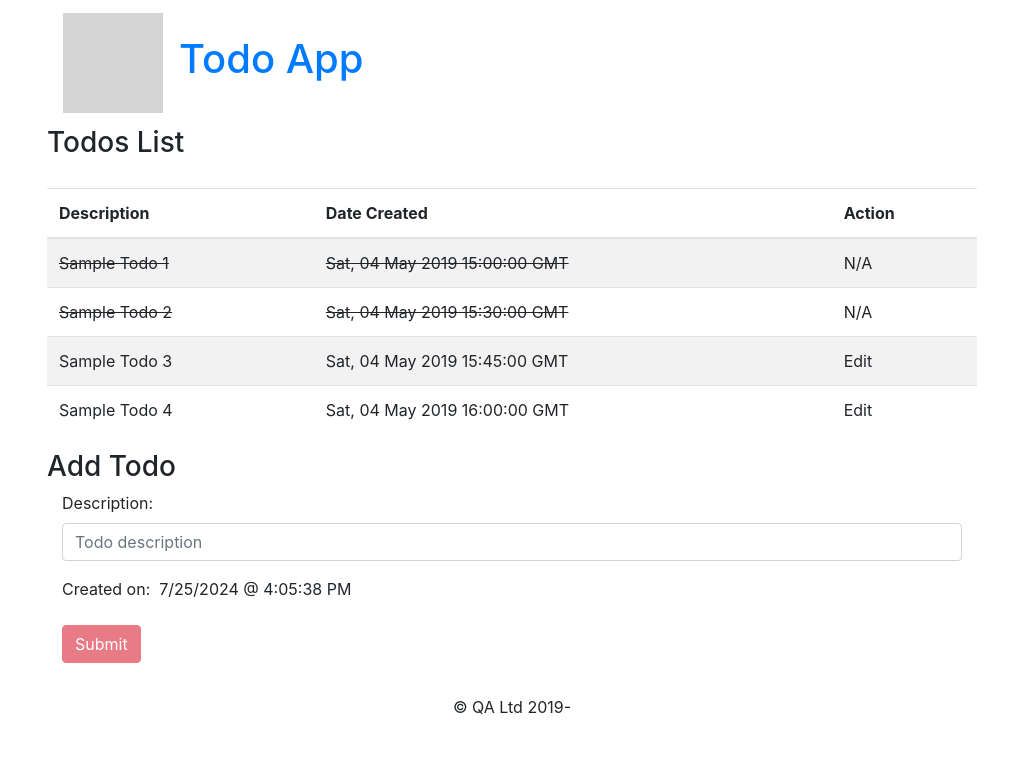
Scenario: Conditional renders dependent on result of data calls › should close the modal for a post error when the button to close it is clicked
In the field with placeholder "Todo description": [512, 542] box [62,523,962,561], type "Sample Todo"
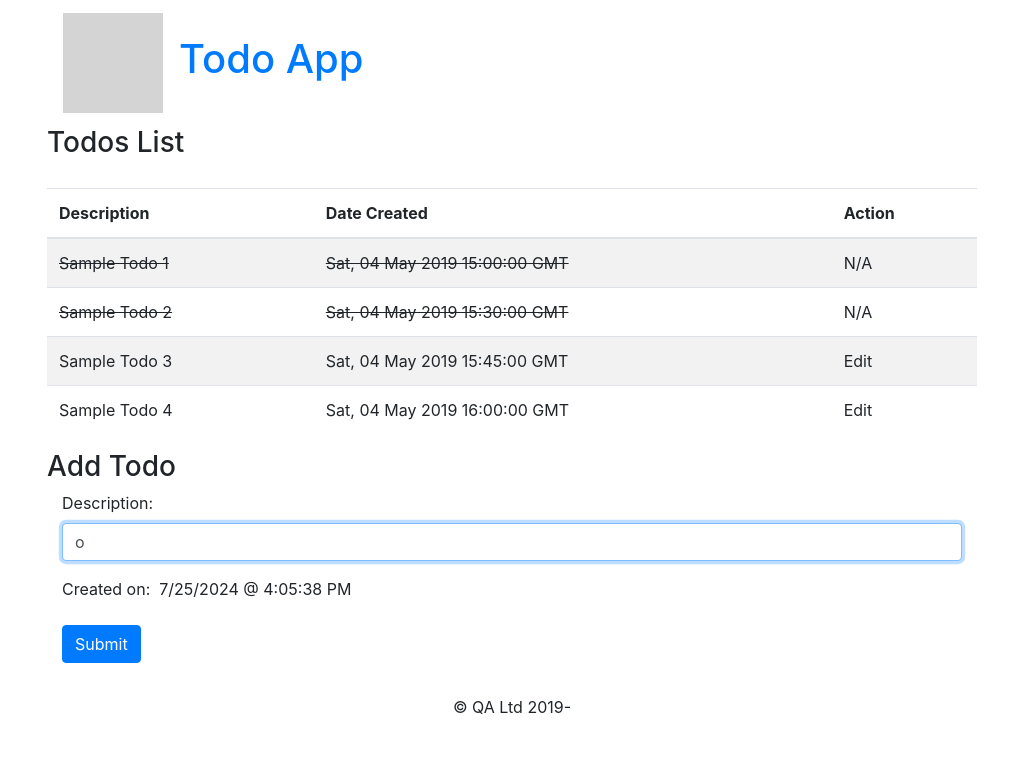
Click the button showing "submit": [101, 644] box [62,625,141,663]
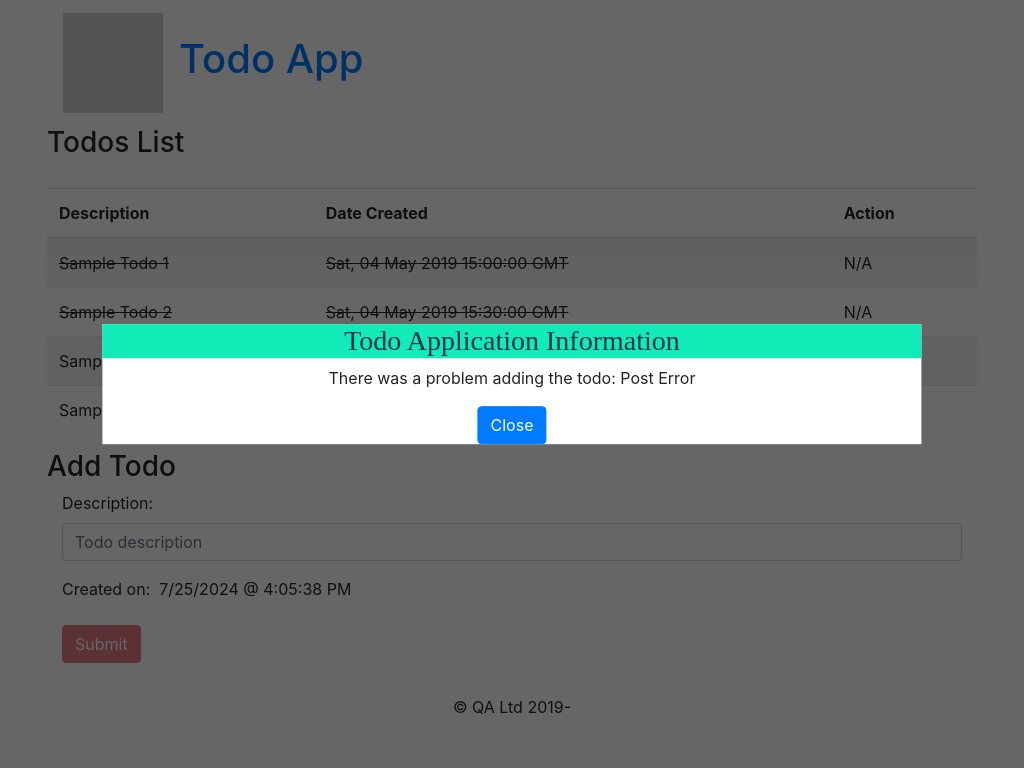
Click the button "Close": [512, 425] box [478,406,546,444]
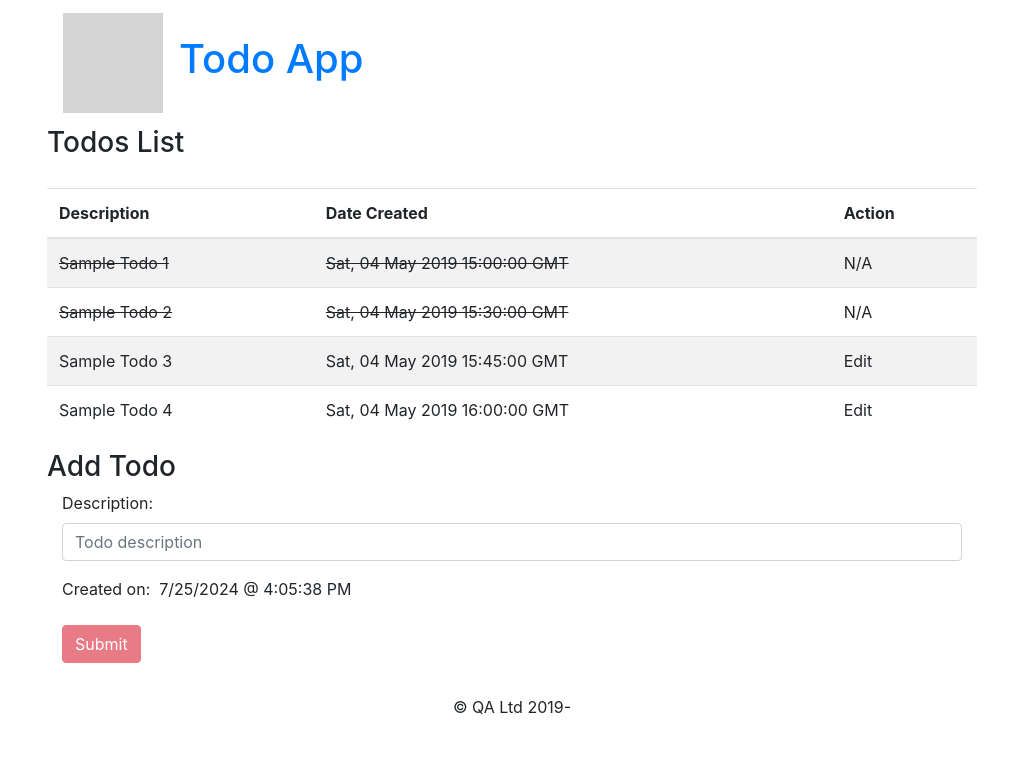
Expected: the button "Close" is gone
